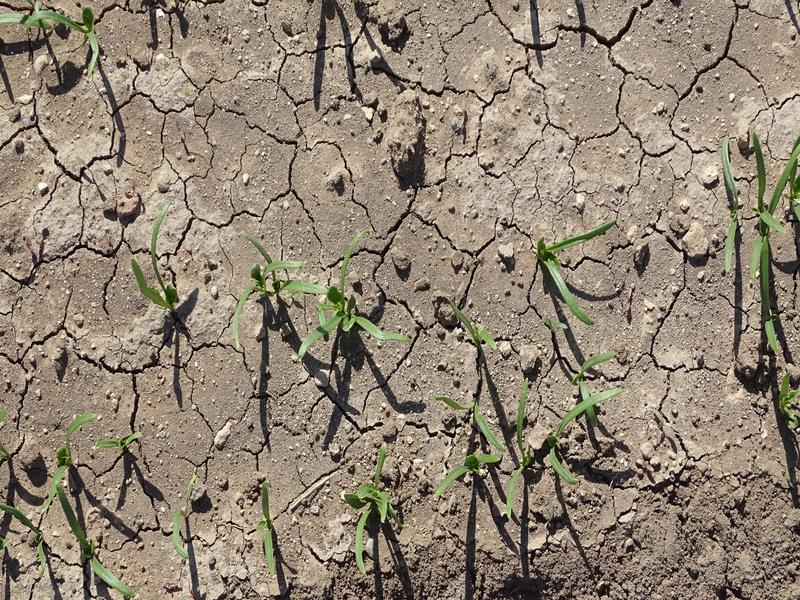Espinaca: (426, 381, 623, 511), (237, 235, 414, 352), (754, 143, 800, 346), (55, 492, 135, 596), (532, 225, 611, 322), (2, 6, 102, 72), (126, 211, 185, 315), (43, 411, 98, 509), (344, 473, 395, 572), (718, 130, 743, 271), (255, 481, 278, 574), (169, 511, 195, 558)
